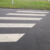zebra: (1, 11, 47, 42)
